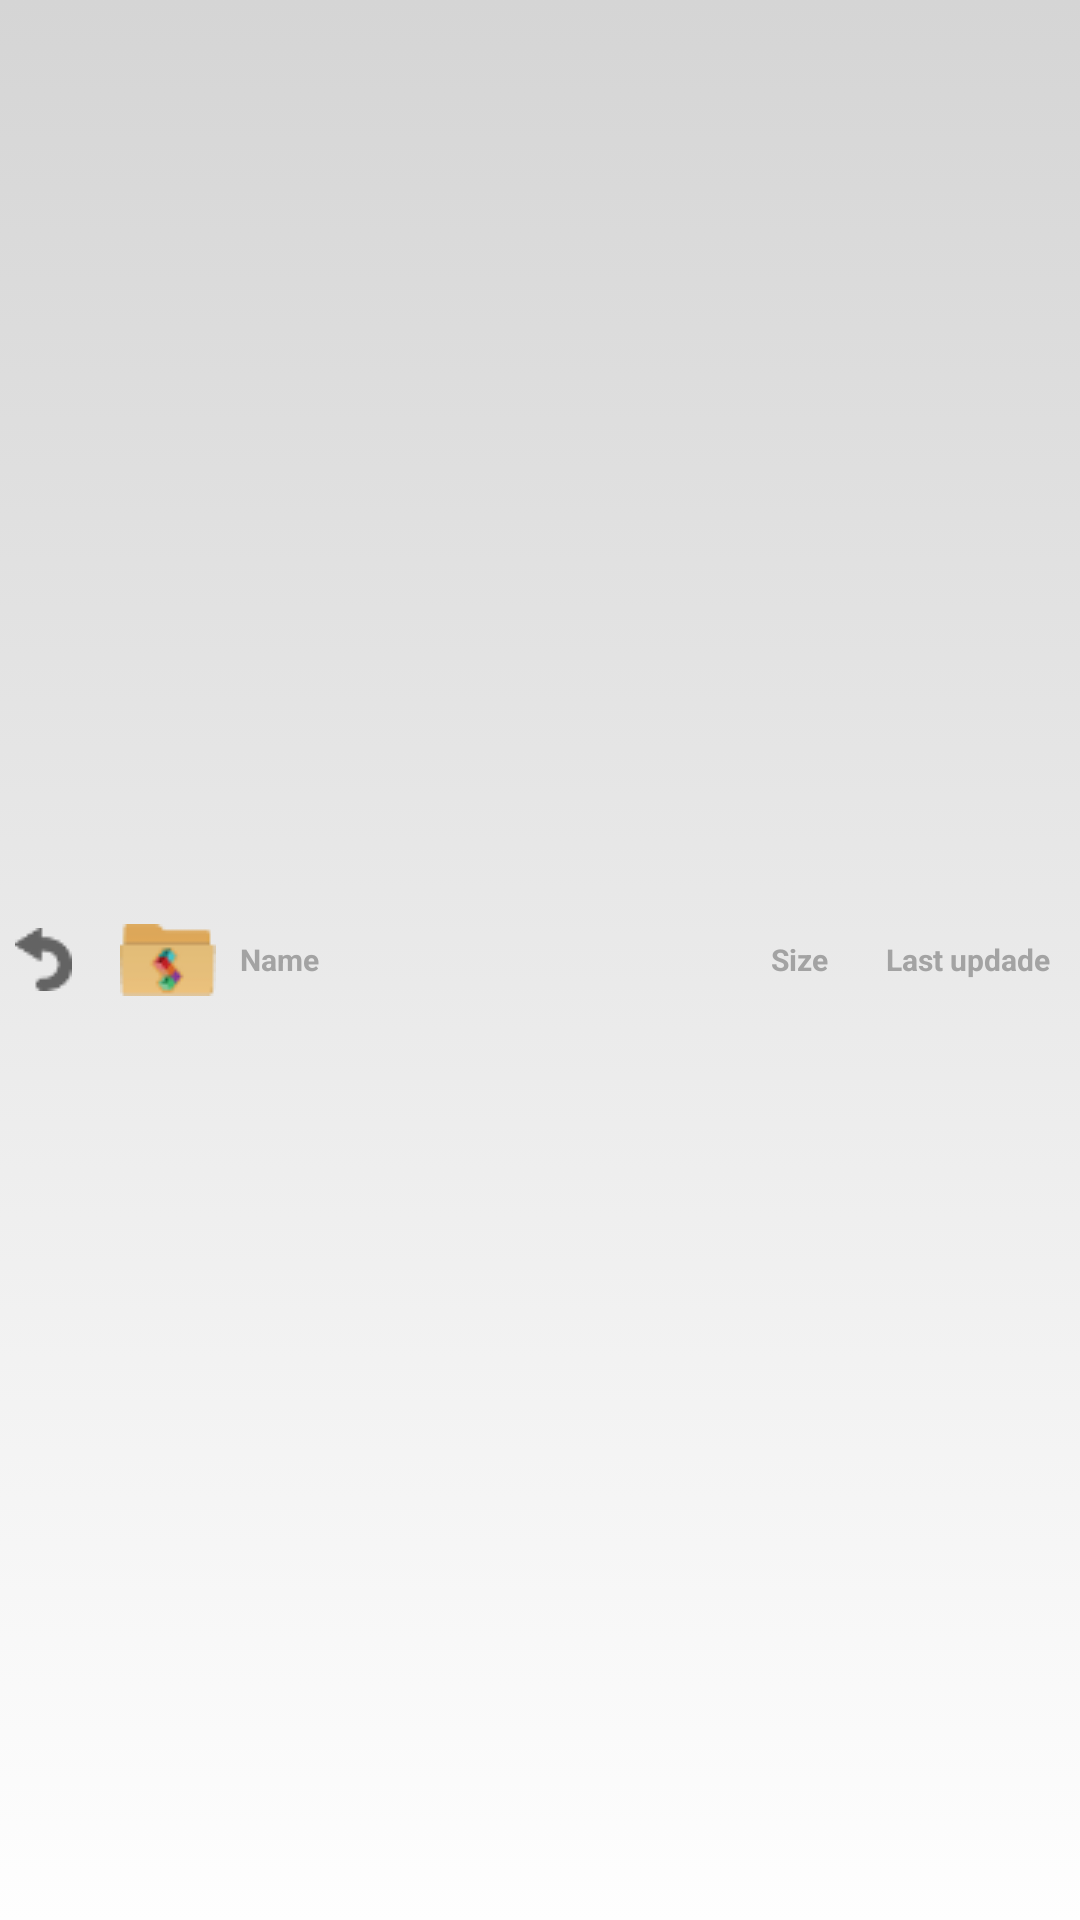

Named icons in this screenshot (1080*1920) and their bounding boxes, (x1, y1, x2, y2):
btnback: (15, 928, 72, 991)
folder home: (120, 924, 216, 996)
